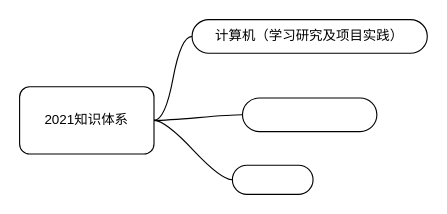
Some shapes in this 447 by 214 pixel diagram are drawn without their labels. The box of each missing label's shape, as (x1, y1, x2, y2) in pixels:
Sub Topic: (231, 164, 313, 194)
数学梳理及运用: (241, 97, 377, 132)
